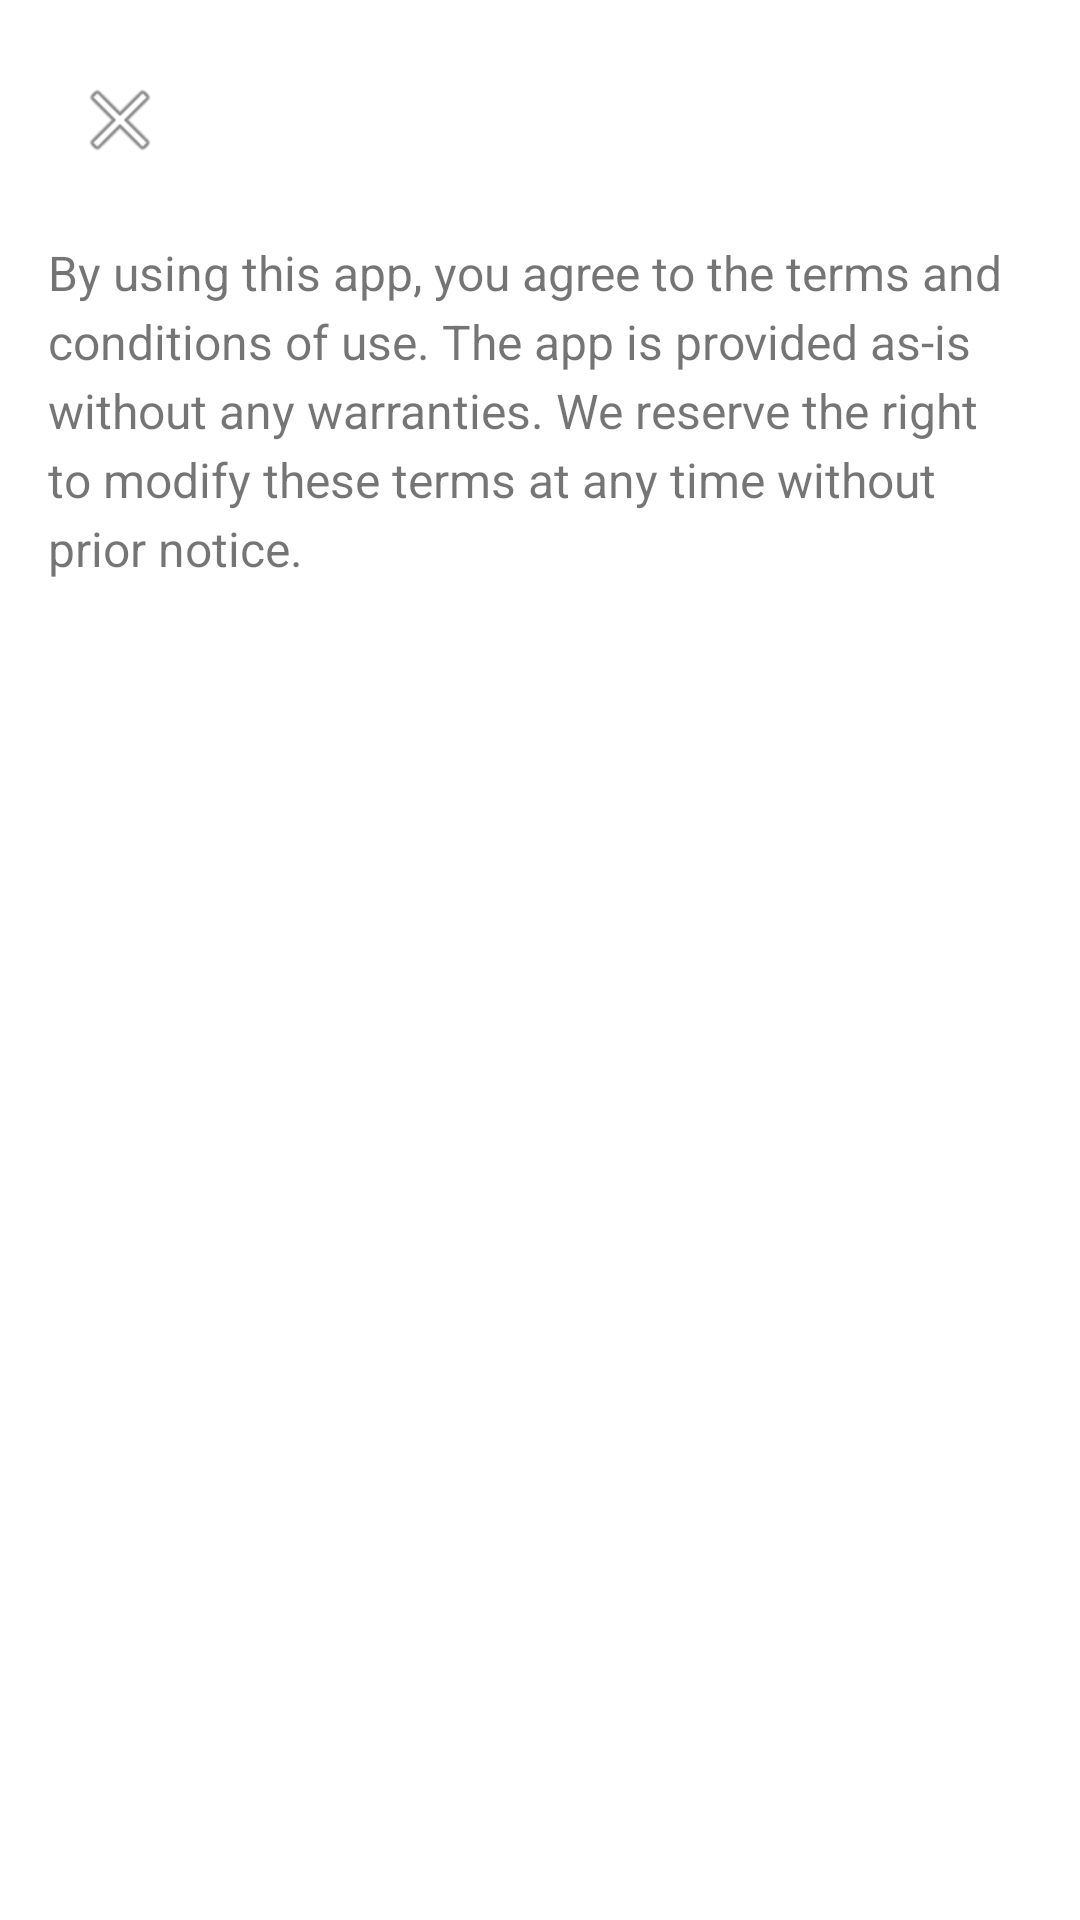

Locate icon controls on the screen. Image size 1080px x 1920px, boxes as (x1, y1, x2, y2).
Close: (90, 90, 150, 150)
